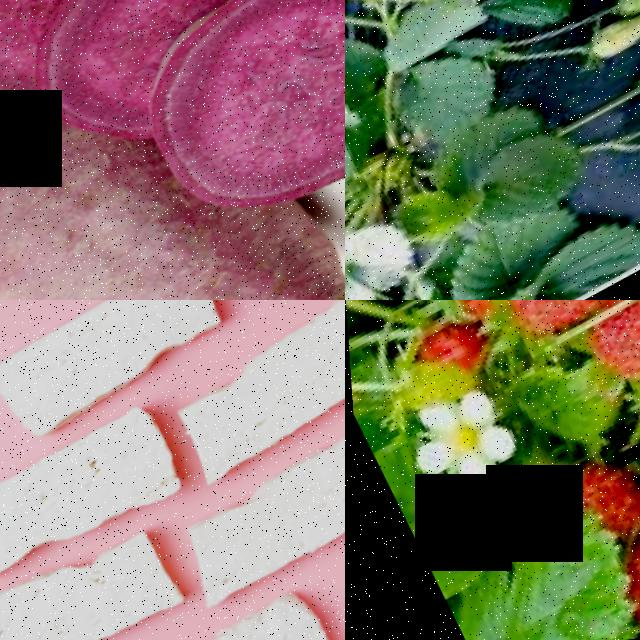strawberry: (486, 300, 640, 352), (576, 300, 640, 400), (597, 512, 640, 640)
tofu: (147, 300, 345, 498), (162, 416, 345, 619), (0, 401, 183, 598), (0, 300, 234, 448), (0, 519, 181, 640), (74, 585, 345, 640)
